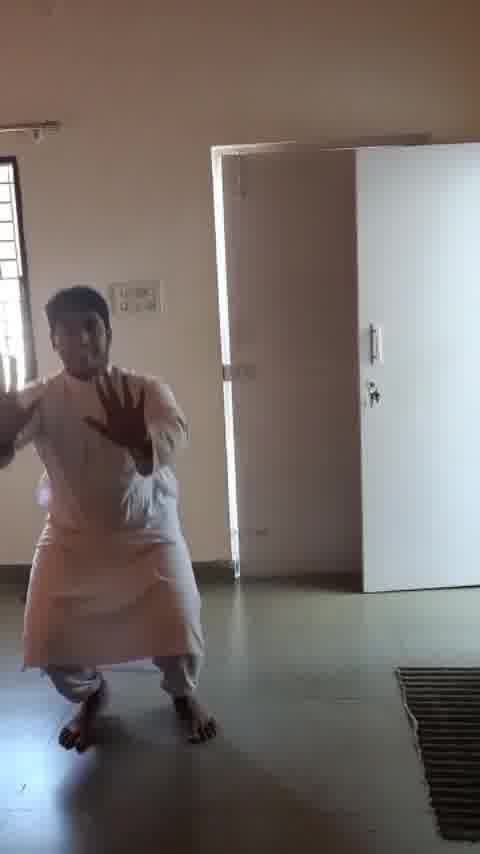duck: (7, 284, 258, 771)
